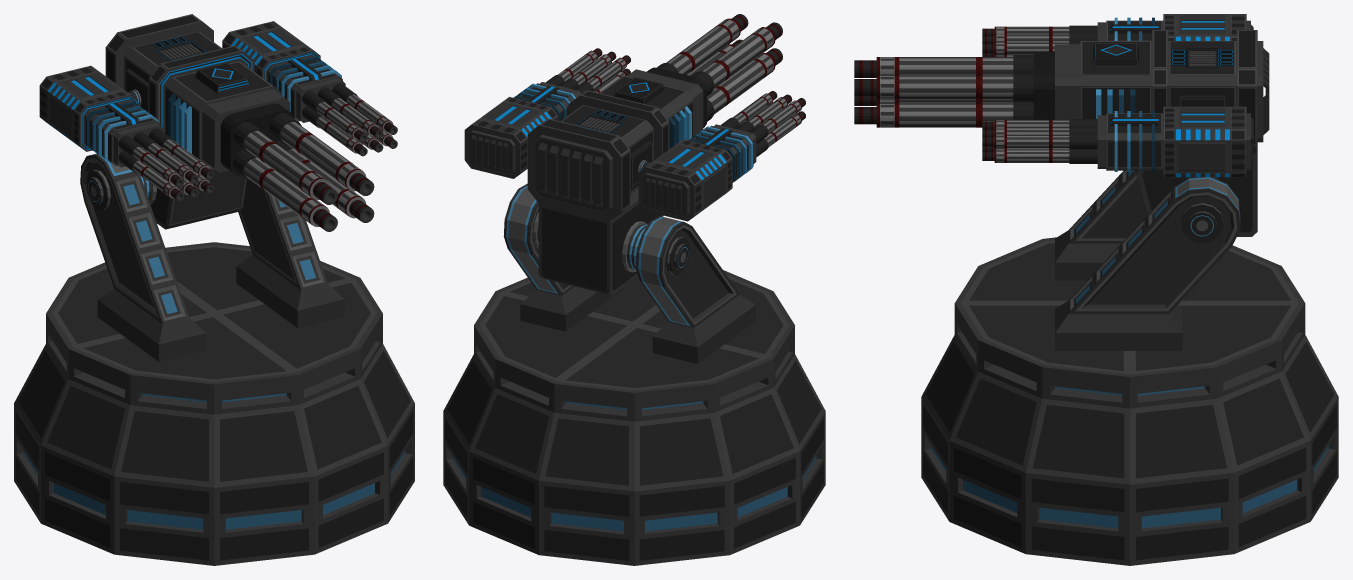
The model's file is GGT1.FBX.
3 views of the same model, side by side, from view 1: azimuth 30°, elevation 25°; view 2: azimuth 150°, elevation 25°; view 3: azimuth 270°, elevation 25° (orthographic). The views are drawn at different scales.
Parts seen in each view (by area): view 1: PTGG, GGT1, NTGG, GGTD2; view 2: PTGG, GGT1, GGTD2, NTGG; view 3: PTGG, GGT1, NTGG, GGTD2.
Part boxes in pixels (box(x1,y1,x2,y2)): PTGG: box(14, 242, 414, 565); GGT1: box(105, 14, 374, 231); NTGG: box(80, 153, 344, 361); GGTD2: box(39, 21, 397, 200); PTGG: box(443, 270, 825, 565); GGT1: box(527, 14, 782, 295); GGTD2: box(464, 48, 805, 221); NTGG: box(503, 183, 755, 363); PTGG: box(921, 237, 1338, 565); GGT1: box(854, 30, 1269, 236); NTGG: box(1055, 170, 1240, 350); GGTD2: box(982, 14, 1253, 177).
Size of the model in its own units: 782 by 888 by 907.
